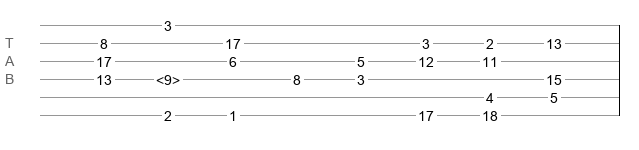1: (229, 108, 237, 118)
11: (482, 54, 498, 64)
12: (418, 54, 434, 64)
13: (96, 72, 112, 82), (546, 36, 562, 46)
15: (546, 72, 562, 82)
17: (96, 54, 112, 64), (225, 36, 241, 46), (418, 108, 434, 118)
18: (482, 108, 498, 118)
2: (164, 108, 172, 118), (486, 36, 494, 46)
3: (164, 18, 172, 28), (357, 72, 365, 82), (422, 36, 430, 46)
4: (486, 90, 494, 100)
5: (357, 54, 365, 64), (550, 90, 558, 100)
6: (229, 54, 237, 64)
8: (100, 36, 108, 46), (293, 72, 301, 82)
harmonic: (156, 72, 180, 82)
